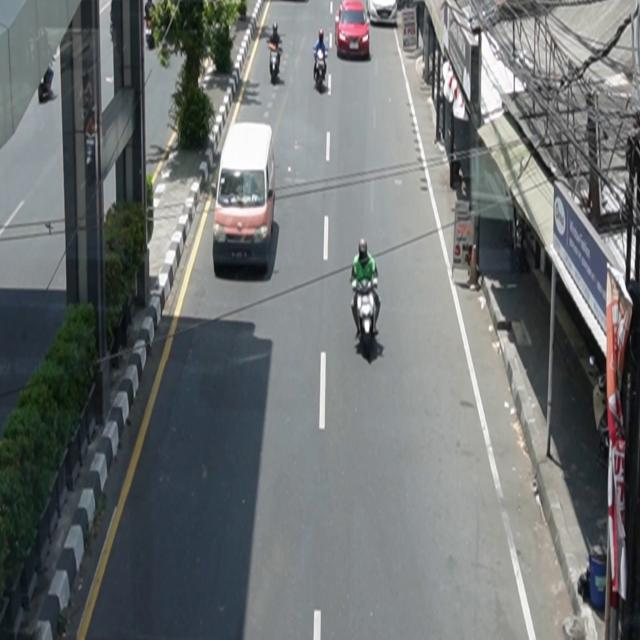bus: (213, 122, 276, 274)
car: (335, 1, 371, 60)
